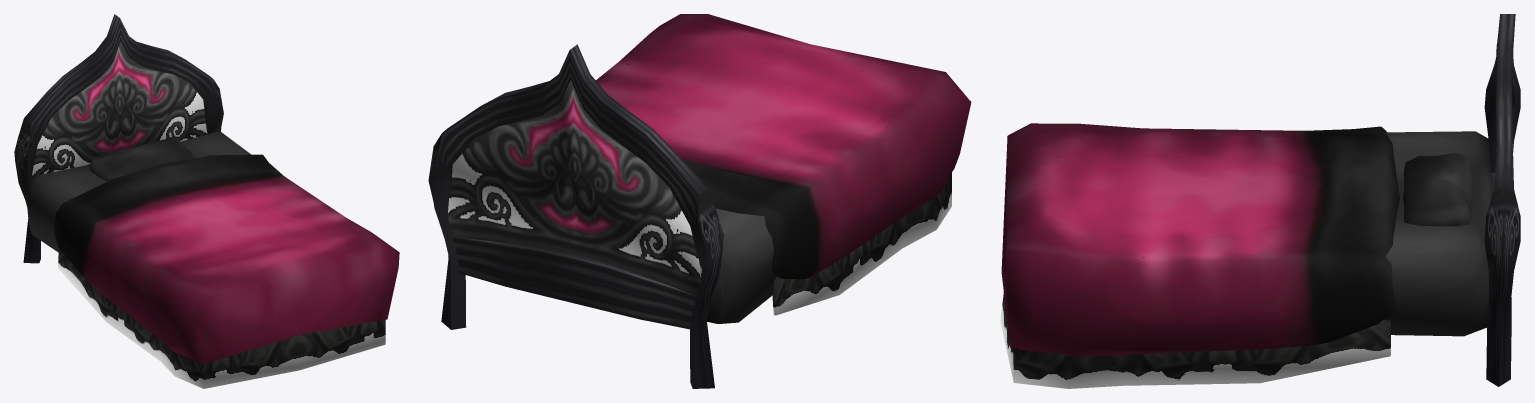
File: LingerieBed_HD.fbx
The picture shows the model from 3 angles, left to right: view 1: azimuth 30°, elevation 25°; view 2: azimuth 150°, elevation 25°; view 3: azimuth 270°, elevation 25°; orthographic projection. The views are drawn at different scales.
Visible parts, largest first — view 1: LingerieBed; view 2: LingerieBed; view 3: LingerieBed.
Part boxes in pixels (x1,y1,x2,y2): LingerieBed: [14, 14, 399, 388]; LingerieBed: [428, 14, 971, 388]; LingerieBed: [1000, 14, 1520, 388].
Size of the model in its own units: 1.33 by 1.27 by 1.94.
